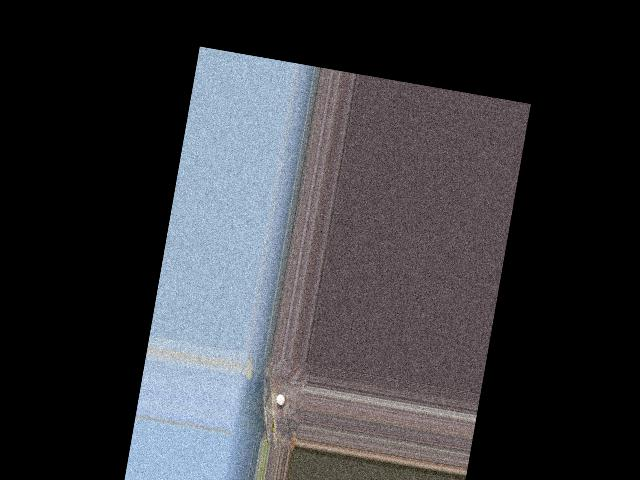egg: (275, 393, 286, 405)
